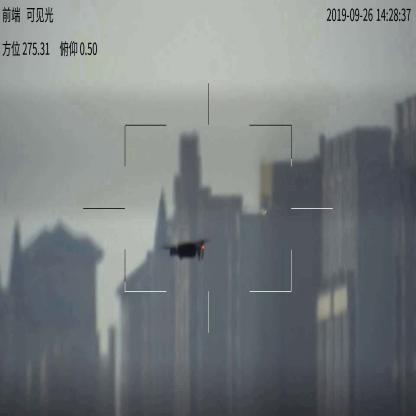uav: (160, 237, 212, 260)
